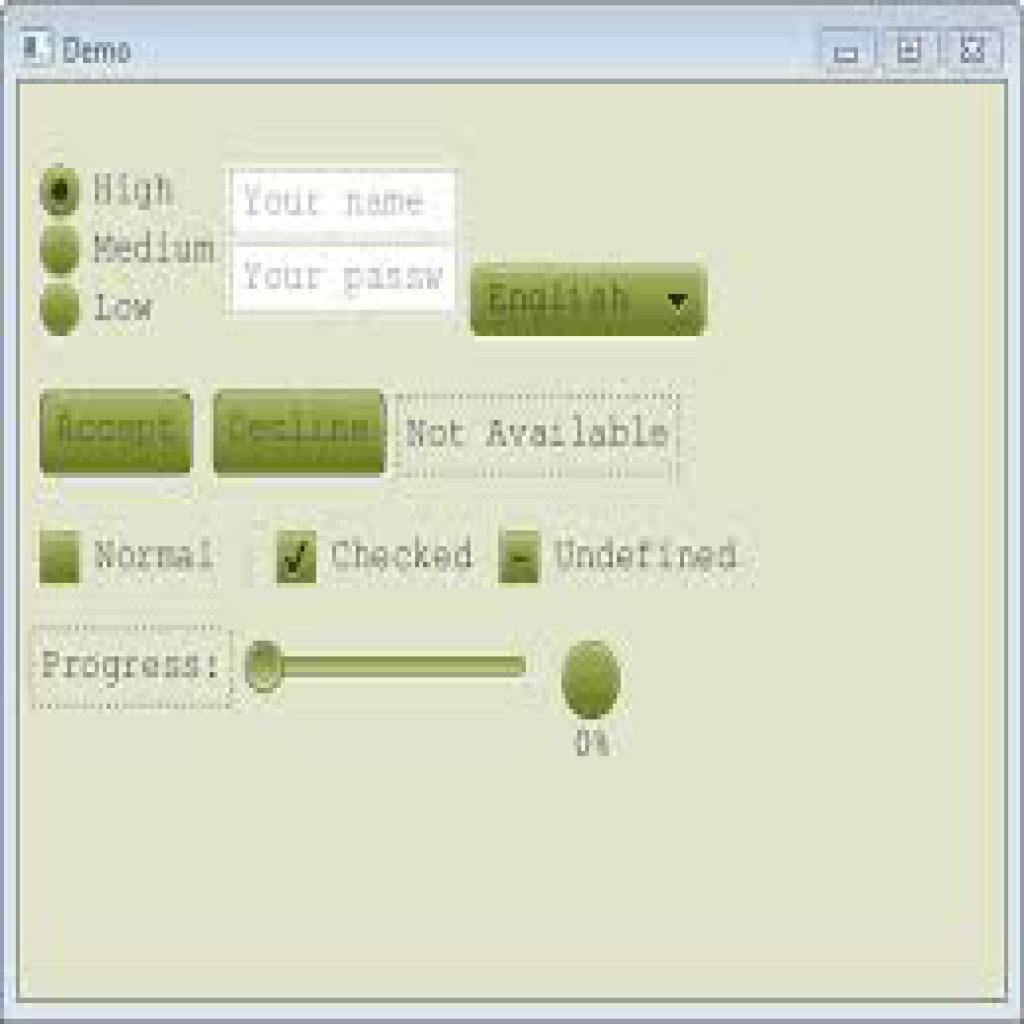button: (214, 386, 389, 480), (41, 387, 195, 478)
checkbox: (38, 527, 84, 586), (496, 527, 541, 585), (275, 526, 319, 584)
dropdown: (468, 262, 710, 338)
input: (231, 167, 457, 244), (231, 244, 457, 315)
label: (557, 533, 748, 578), (329, 531, 472, 577), (94, 534, 221, 578), (90, 227, 220, 269), (91, 166, 184, 215), (89, 283, 161, 326)
radio: (557, 635, 624, 720), (37, 280, 83, 340), (40, 159, 84, 218), (40, 221, 83, 278)
